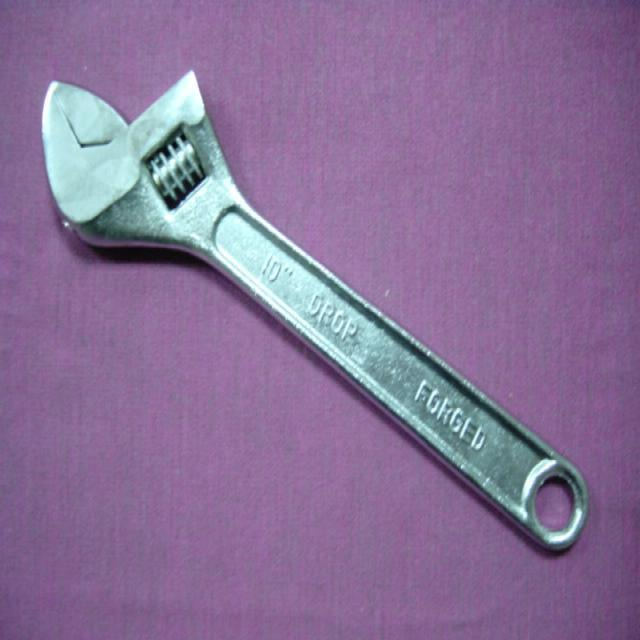wrench: (36, 60, 594, 566)
